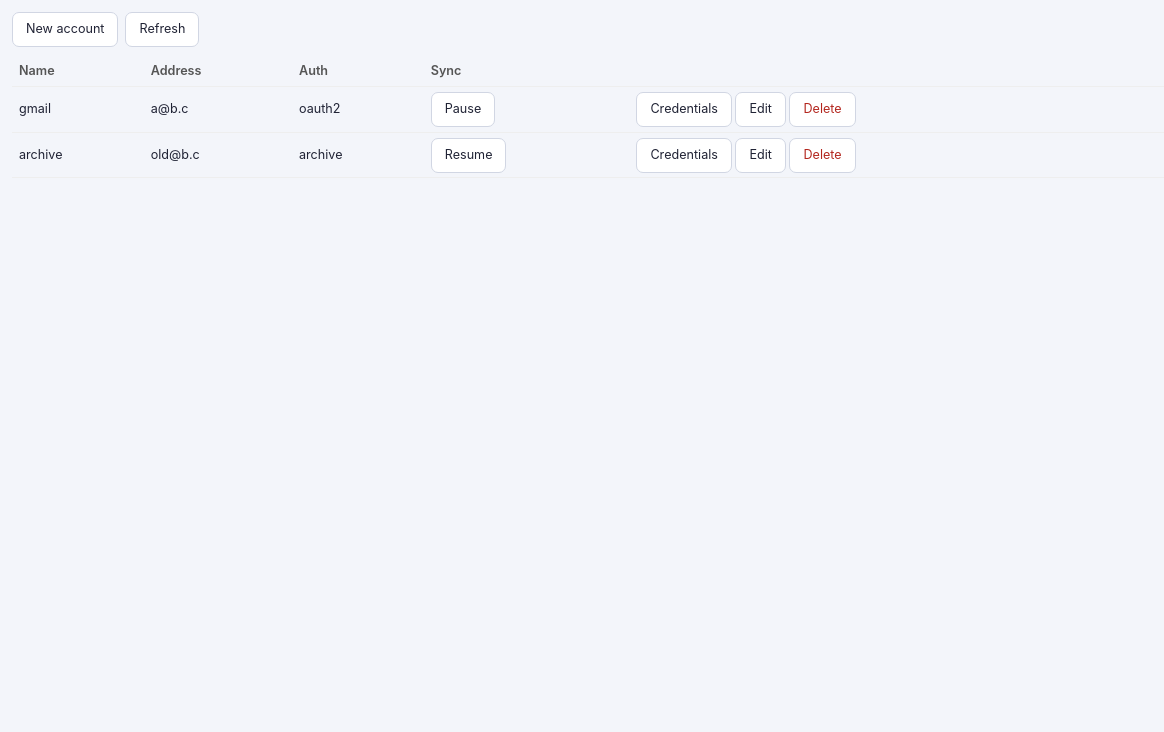
Scenario: AccountsPanel › opens the create form from the toolbar
Click the button with test id "new-account".
click(65, 29)  # box [12, 12, 118, 47]
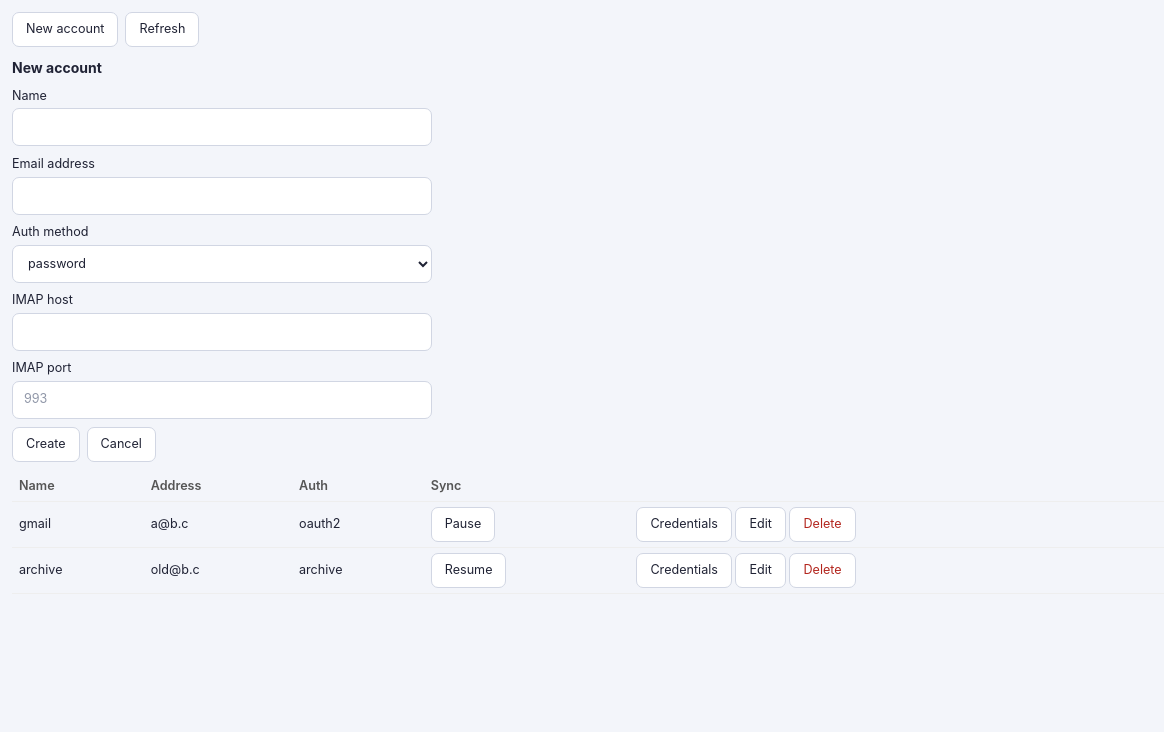
expect the form with test id "account-form" is shown: met, box [12, 57, 432, 462]
